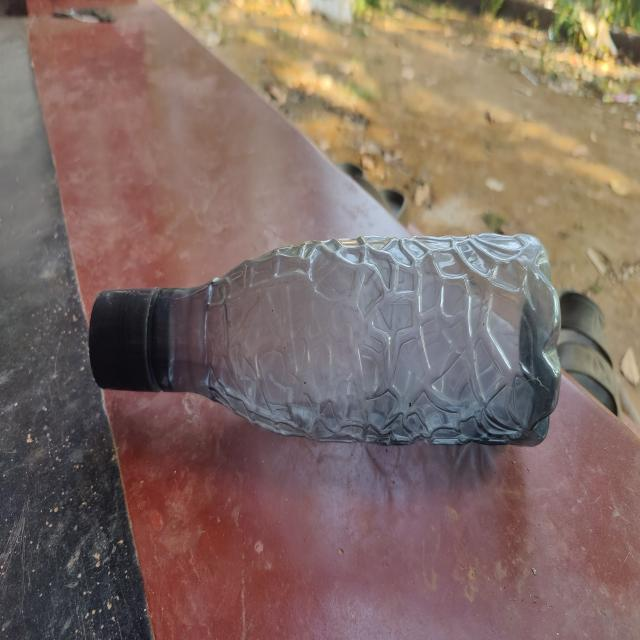plastic: (87, 230, 565, 451)
